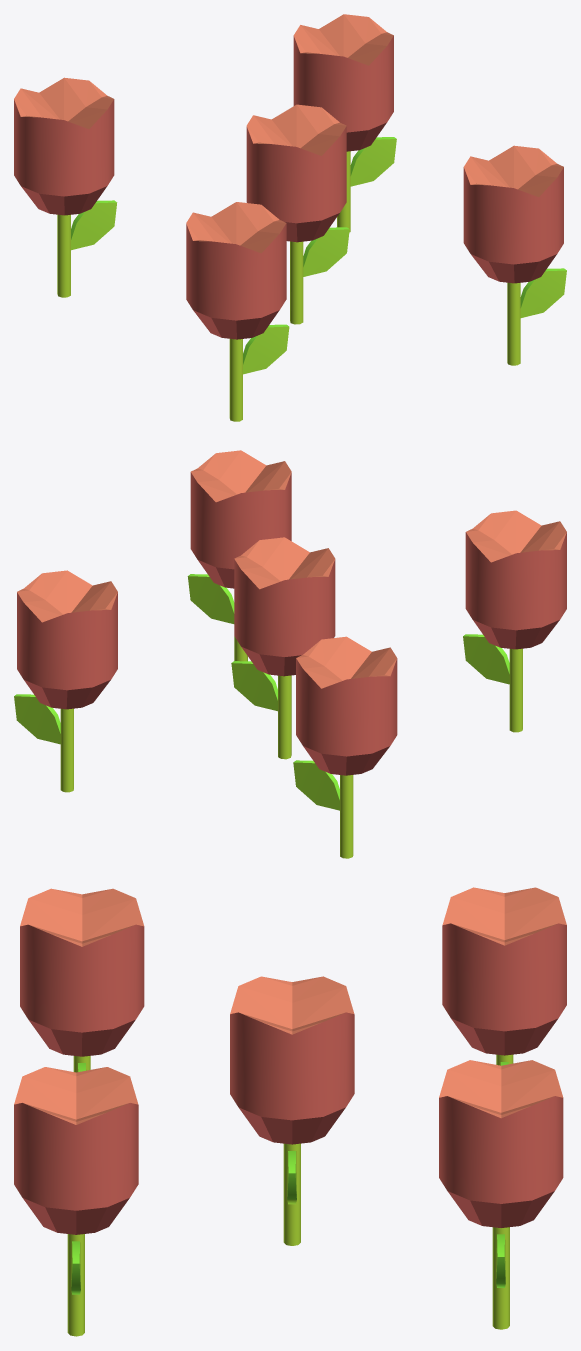
Rendered from tulip.fbx.
3 views of the same model, one above another, from view 1: azimuth 30°, elevation 25°; view 2: azimuth 150°, elevation 25°; view 3: azimuth 270°, elevation 25° (orthographic). The views are drawn at different scales.
Visible parts, largest first — view 1: floor_tulip; view 2: floor_tulip; view 3: floor_tulip.
Boxes of the visible parts, <box> form: floor_tulip: <box>14,14,566,421</box>; floor_tulip: <box>14,450,566,858</box>; floor_tulip: <box>14,887,566,1336</box>.
Bounding box in the file's own units: 79.19 × 41.61 × 81.84.
